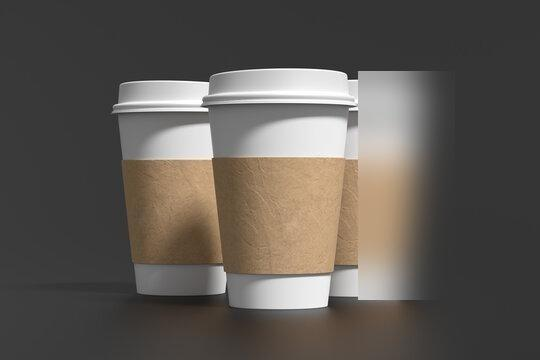cup-disposable: (202, 64, 355, 314), (108, 74, 228, 300)
